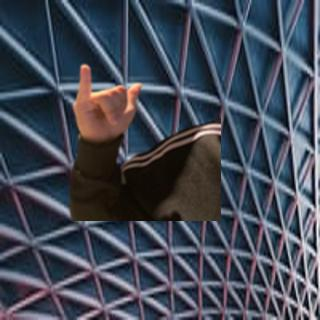HAVE: (68, 59, 145, 144)
